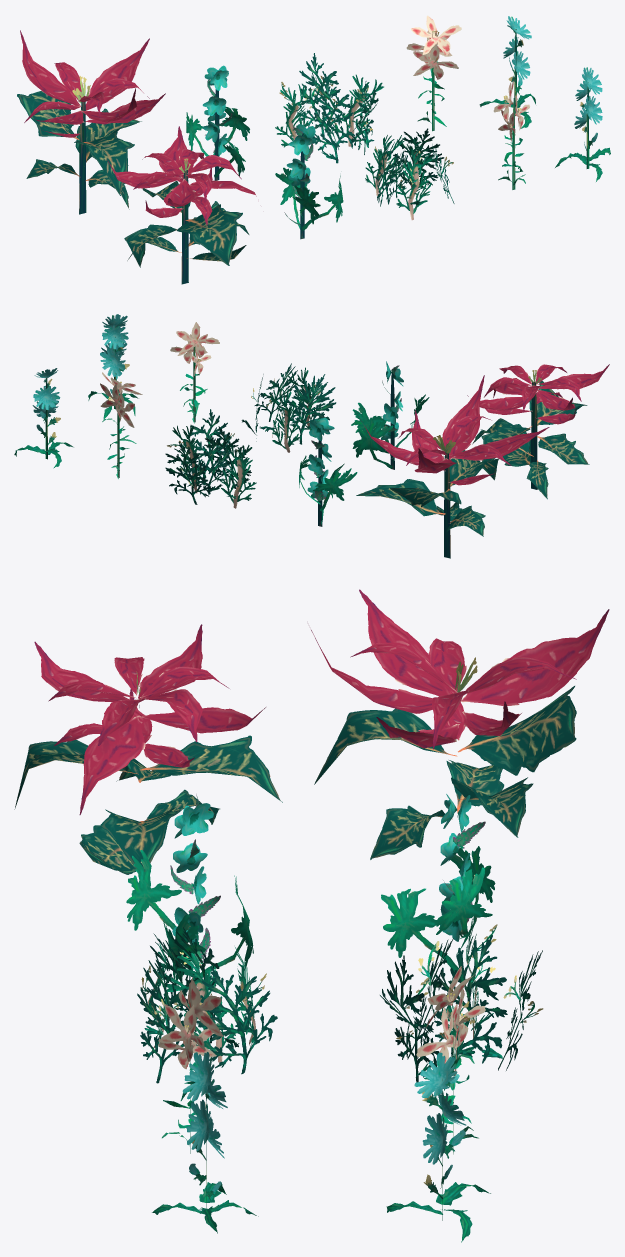
Rendered from Plantas.fbx.
3 views of the same model, one above another, from view 1: azimuth 30°, elevation 25°; view 2: azimuth 150°, elevation 25°; view 3: azimuth 270°, elevation 25° (orthographic). The views are drawn at different scales.
Parts seen in each view (by area): view 1: plantas_0012:Nochebuena, plantas_0012:Nochebuena02, plantas_0012:Romero, plantas_0012:Riomero02, plantas_0012:Verbena, plantas_0012:Verbena02, plantas_0012:Gentiana, plantas_0012:Bignonia02, plantas_0012:Bignonia, plantas_0012:Gentiana02; view 2: plantas_0012:Nochebuena, plantas_0012:Nochebuena02, plantas_0012:Romero, plantas_0012:Riomero02, plantas_0012:Verbena02, plantas_0012:Verbena, plantas_0012:Bignonia02, plantas_0012:Bignonia, plantas_0012:Gentiana02, plantas_0012:Gentiana; view 3: plantas_0012:Nochebuena, plantas_0012:Nochebuena02, plantas_0012:Riomero02, plantas_0012:Romero, plantas_0012:Verbena, plantas_0012:Verbena02, plantas_0012:Bignonia, plantas_0012:Bignonia02, plantas_0012:Gentiana02, plantas_0012:Gentiana.
Boxes of the visible parts, bbox=[...] form: plantas_0012:Nochebuena: bbox=[17, 30, 165, 214]; plantas_0012:Nochebuena02: bbox=[107, 126, 256, 284]; plantas_0012:Romero: bbox=[275, 53, 383, 163]; plantas_0012:Riomero02: bbox=[365, 128, 454, 220]; plantas_0012:Verbena: bbox=[186, 65, 249, 180]; plantas_0012:Verbena02: bbox=[275, 124, 343, 239]; plantas_0012:Gentiana: bbox=[406, 15, 461, 131]; plantas_0012:Bignonia02: bbox=[555, 67, 610, 181]; plantas_0012:Bignonia: bbox=[479, 16, 535, 128]; plantas_0012:Gentiana02: bbox=[493, 81, 529, 189]; plantas_0012:Nochebuena: bbox=[356, 375, 549, 558]; plantas_0012:Nochebuena02: bbox=[467, 364, 609, 499]; plantas_0012:Romero: bbox=[165, 409, 256, 508]; plantas_0012:Riomero02: bbox=[241, 363, 336, 452]; plantas_0012:Verbena02: bbox=[351, 361, 429, 469]; plantas_0012:Verbena: bbox=[299, 418, 357, 526]; plantas_0012:Bignonia02: bbox=[88, 314, 138, 419]; plantas_0012:Bignonia: bbox=[14, 368, 73, 468]; plantas_0012:Gentiana02: bbox=[170, 322, 219, 423]; plantas_0012:Gentiana: bbox=[100, 372, 142, 478]; plantas_0012:Nochebuena: bbox=[311, 589, 609, 859]; plantas_0012:Nochebuena02: bbox=[14, 624, 282, 874]; plantas_0012:Riomero02: bbox=[137, 927, 277, 1083]; plantas_0012:Romero: bbox=[380, 917, 543, 1082]; plantas_0012:Verbena: bbox=[381, 794, 495, 971]; plantas_0012:Verbena02: bbox=[126, 794, 253, 983]; plantas_0012:Bignonia: bbox=[386, 1052, 490, 1242]; plantas_0012:Bignonia02: bbox=[152, 1052, 258, 1233]; plantas_0012:Gentiana02: bbox=[158, 977, 223, 1153]; plantas_0012:Gentiana: bbox=[416, 966, 485, 1154].
Size of the model in its own units: 398 by 116 by 235.
